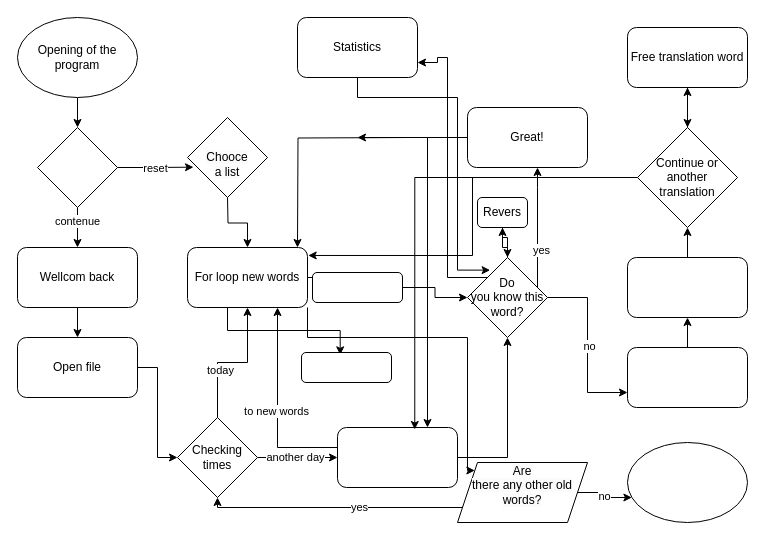
This 765x553 diagram has some shape labels left out. Here are the shapes that lost their labels. From the top down, the centre of each, then its label:
At (x=77, y=167): "Reset or contenue".
At (x=357, y=287): "Save file".
At (x=687, y=287): "Practice the last words".
At (x=346, y=367): "Progress notice".
At (x=687, y=377): "Write the word and get his translation".
At (x=397, y=457): "For loop old words".
At (x=687, y=482): "End of the program".
